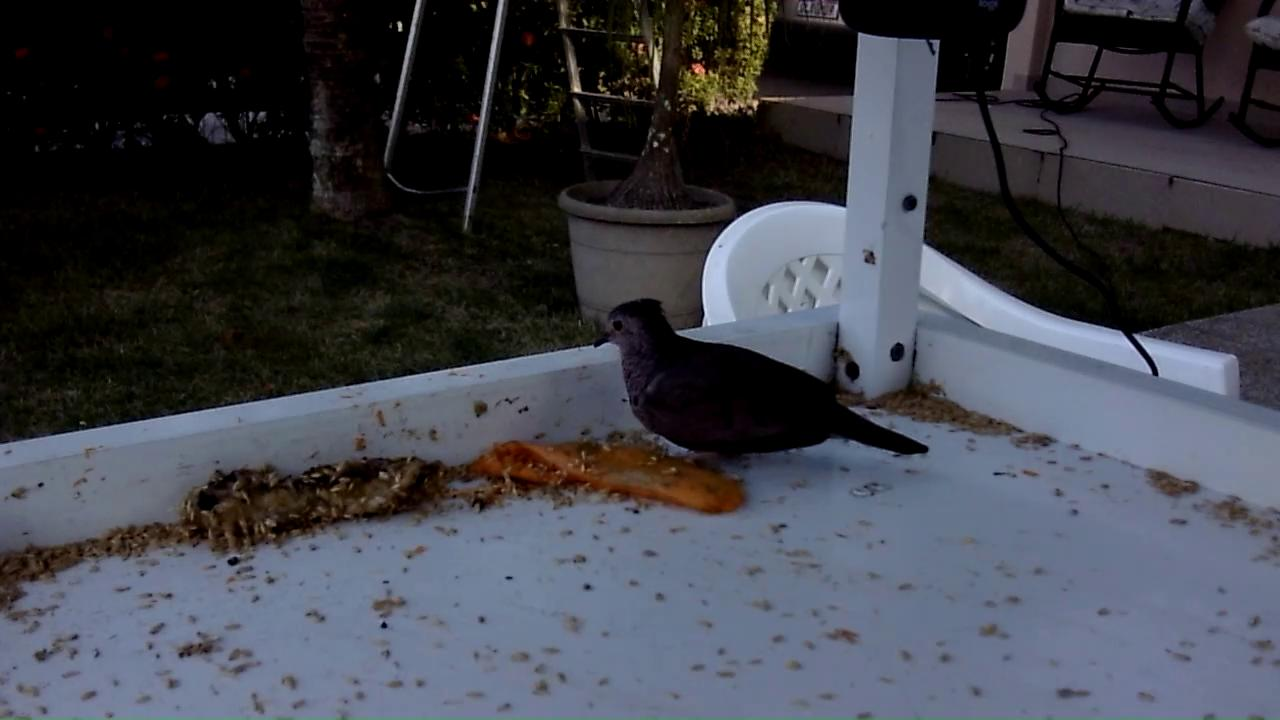rolinha: (591, 297, 932, 462)
